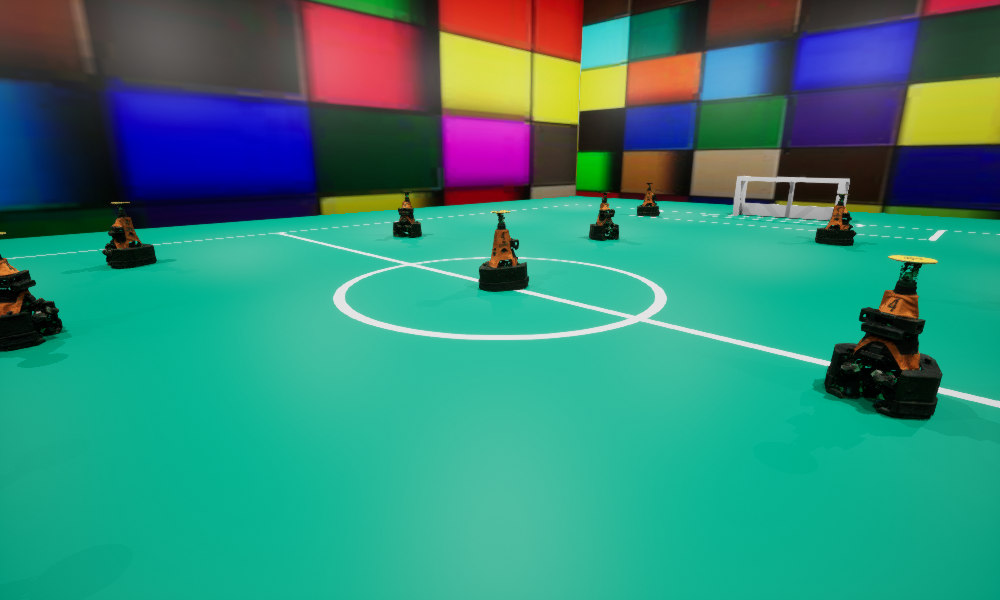o: (824, 255, 942, 418), (0, 232, 62, 351), (479, 210, 528, 291), (102, 202, 156, 267), (815, 194, 856, 245), (589, 192, 618, 240), (393, 191, 421, 236), (637, 183, 659, 216)
